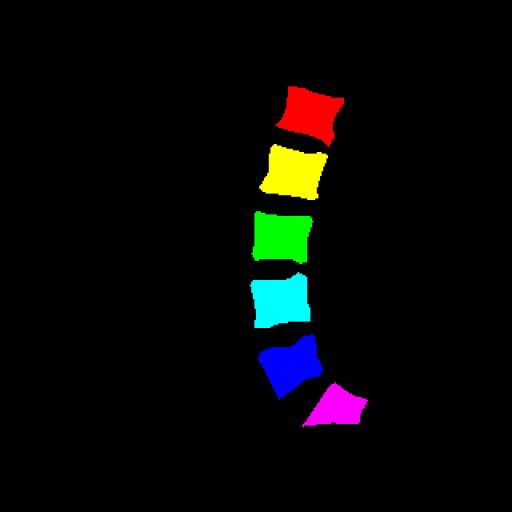L1: (276, 86, 344, 146)
L2: (259, 144, 327, 200)
L3: (252, 211, 312, 264)
L4: (251, 273, 310, 328)
L5: (258, 336, 323, 398)
S1: (302, 383, 367, 426)
